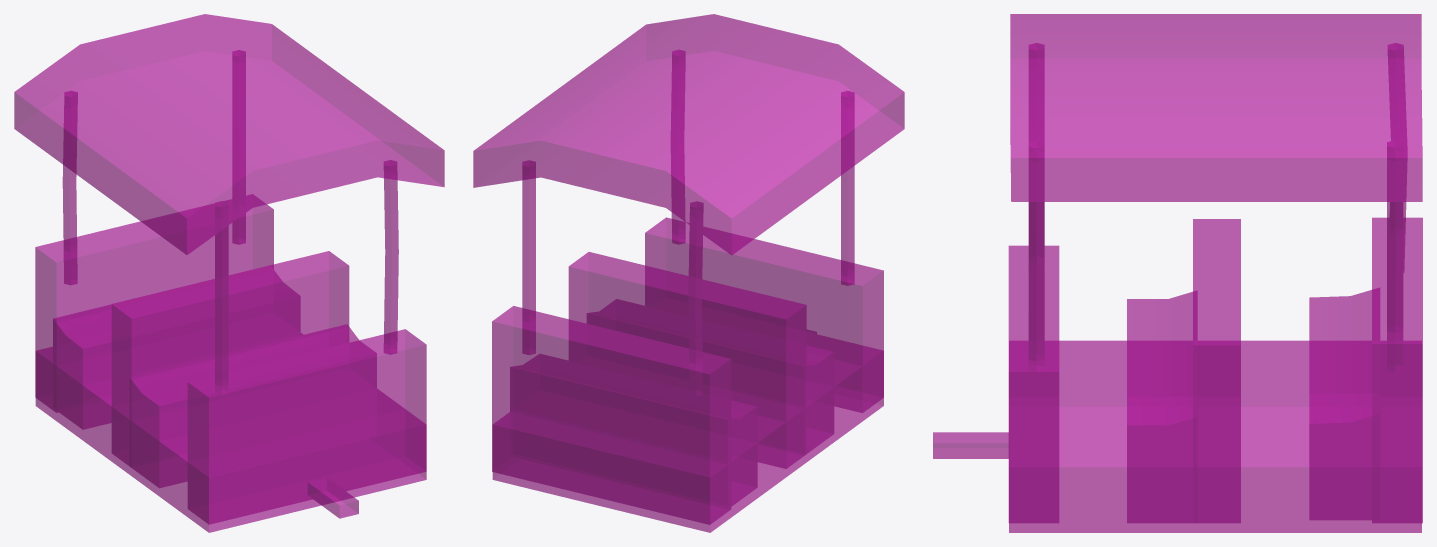
File: SM_Veh_Carnival_Train_01_Carriage_01_Collision.fbx
3 views of the same model, side by side, from view 1: azimuth 30°, elevation 25°; view 2: azimuth 150°, elevation 25°; view 3: azimuth 270°, elevation 25° (orthographic). The views are drawn at different scales.
Parts seen in each view (by area): view 1: SM_Veh_Carnival_Train_01_Carriage_01_Collision; view 2: SM_Veh_Carnival_Train_01_Carriage_01_Collision; view 3: SM_Veh_Carnival_Train_01_Carriage_01_Collision.
Part boxes in pixels (x1,y1,x2,y2): SM_Veh_Carnival_Train_01_Carriage_01_Collision: (14, 14, 444, 532); SM_Veh_Carnival_Train_01_Carriage_01_Collision: (473, 14, 904, 532); SM_Veh_Carnival_Train_01_Carriage_01_Collision: (933, 14, 1422, 532).
Size of the model in its own units: 163 by 212 by 225.
